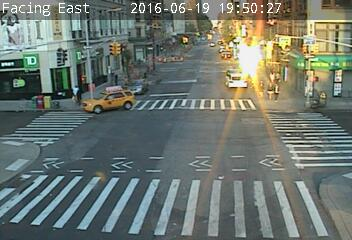neg: (138, 71, 152, 90), (113, 71, 122, 83)
pos: (252, 77, 269, 99), (69, 83, 85, 105), (271, 80, 285, 99), (265, 82, 278, 99)
